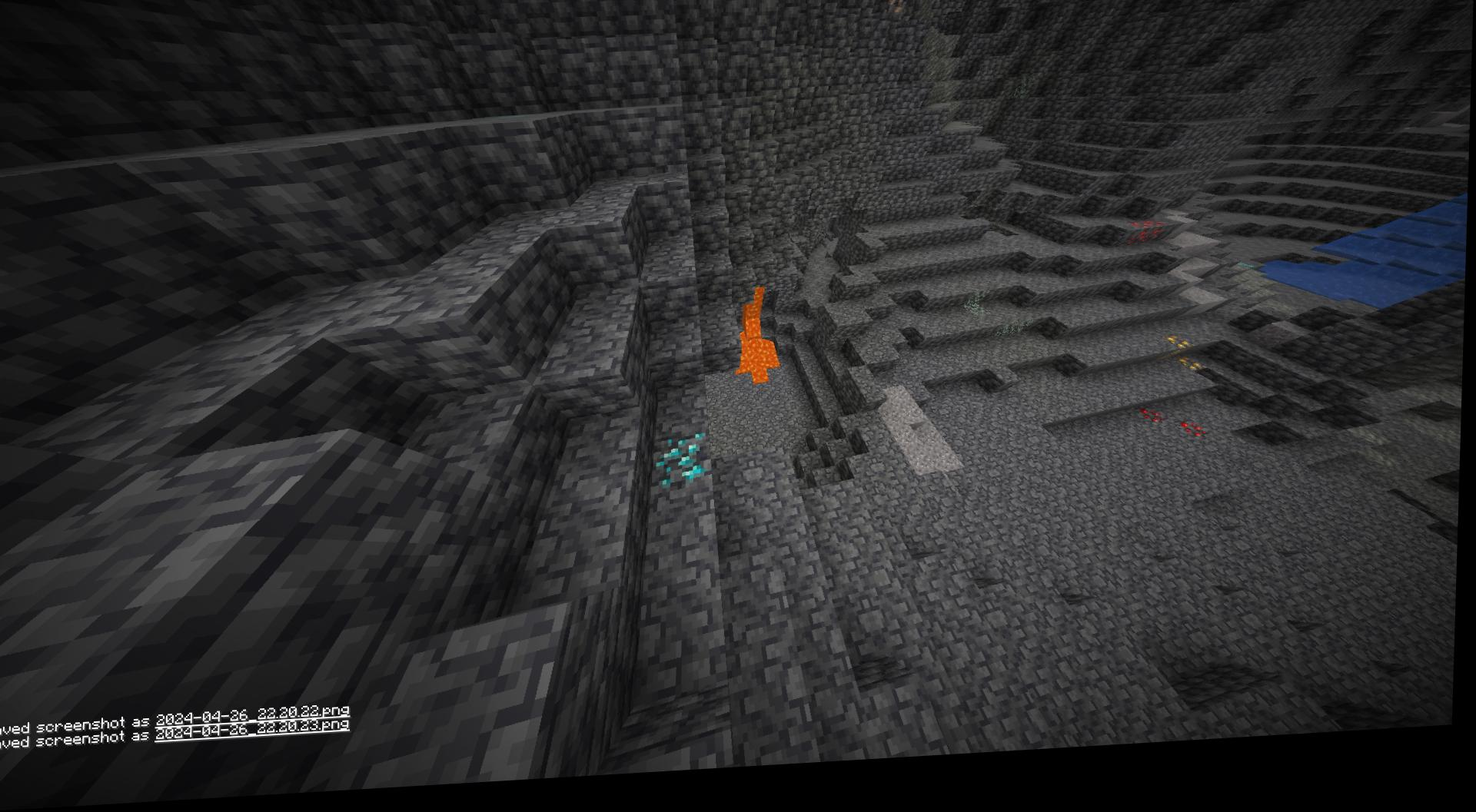diamond ore: (651, 444, 715, 495), (1236, 275, 1258, 286)
gold ore: (1182, 368, 1212, 389), (1168, 349, 1193, 370)
iron ore: (887, 0, 917, 28)
redstone ore: (1133, 231, 1170, 258), (1183, 434, 1211, 455), (1142, 418, 1168, 440)
